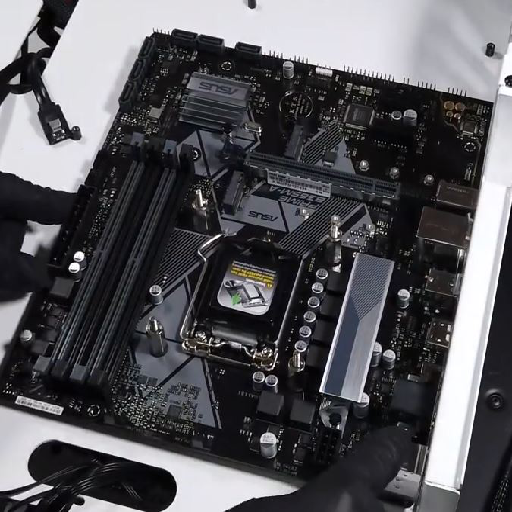CPU: (182, 237, 303, 370)
GPU: (217, 143, 401, 209)
MOTHERBOARD: (1, 33, 497, 491)
RAM: (33, 131, 197, 401)
SSD: (221, 171, 244, 213), (283, 125, 308, 162)
